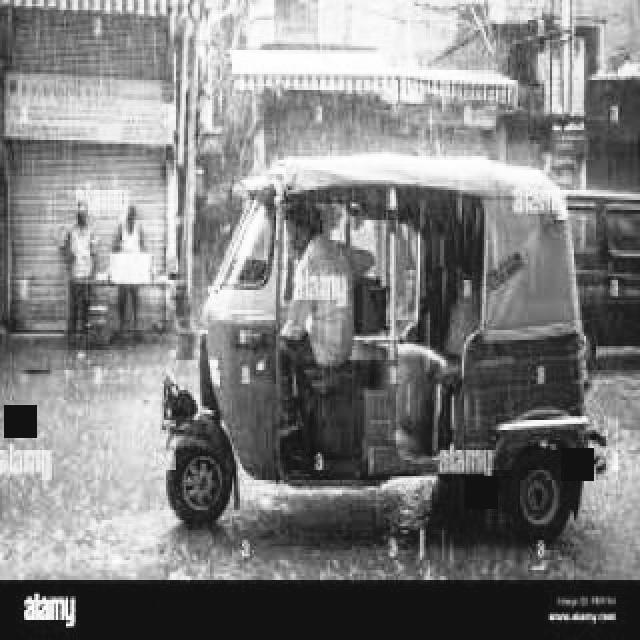Auto-Rickshaw: (180, 164, 604, 542)
